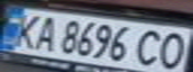6: (109, 24, 139, 63), (72, 19, 96, 57)
8: (54, 17, 81, 55)
9: (90, 21, 115, 61)
A: (30, 14, 63, 52)
C: (130, 27, 169, 68)
K: (6, 11, 45, 51)
O: (151, 29, 193, 71)
